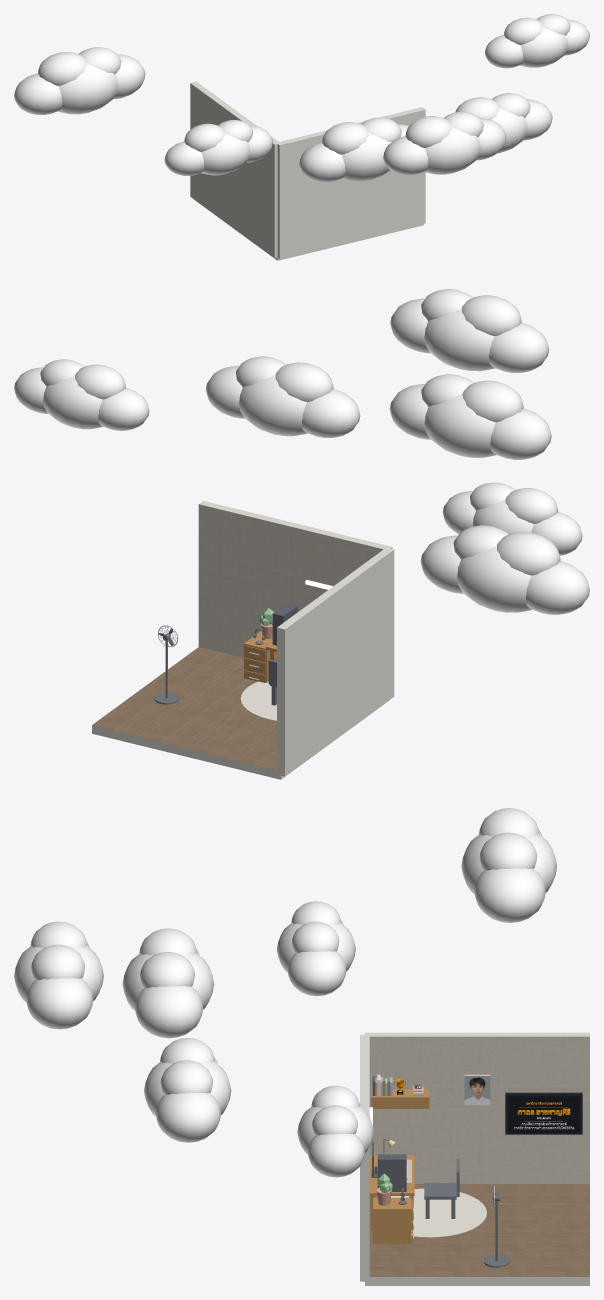
The model's file is myport.glb.
The picture shows the model from 3 angles, top to bottom: view 1: azimuth 30°, elevation 25°; view 2: azimuth 150°, elevation 25°; view 3: azimuth 270°, elevation 25°; orthographic projection. The views are drawn at different scales.
Parts seen in each view (by area): view 1: Room, Cloud_05, Cloud_06, Cloud_02, Cloud_01, Cloud_04, Cloud_03; view 2: Room, Cloud_05, Cloud_02, Cloud_06, Cloud_03, Cloud_04, Cloud_01, Cabinet, Room_Rug; view 3: Room, Cloud_05, Cloud_02, Cloud_06, Cloud_03, Cloud_01, Cloud_04, StudentInfo_3DText, Room_Rug, Cabinet, Shelf, Computer (+4 smaller).
Boxes of the visible parts, x1=… form: Room: x1=190, y1=81, x2=425, y2=260; Cloud_05: x1=14, y1=47, x2=145, y2=114; Cloud_06: x1=383, y1=111, x2=506, y2=175; Cloud_02: x1=299, y1=117, x2=408, y2=182; Cloud_01: x1=164, y1=120, x2=272, y2=175; Cloud_04: x1=485, y1=14, x2=589, y2=68; Cloud_03: x1=455, y1=93, x2=552, y2=153; Room: x1=92, y1=501, x2=394, y2=779; Cloud_05: x1=420, y1=525, x2=589, y2=614; Cloud_02: x1=389, y1=374, x2=551, y2=459; Cloud_06: x1=390, y1=289, x2=549, y2=372; Cloud_03: x1=205, y1=356, x2=360, y2=437; Cloud_04: x1=14, y1=359, x2=149, y2=430; Cloud_01: x1=442, y1=482, x2=582, y2=555; Cabinet: x1=244, y1=631, x2=276, y2=682; Room_Rug: x1=240, y1=681, x2=276, y2=721; Room: x1=360, y1=1032, x2=589, y2=1285; Cloud_05: x1=461, y1=808, x2=557, y2=922; Cloud_02: x1=122, y1=928, x2=213, y2=1038; Cloud_06: x1=14, y1=921, x2=103, y2=1029; Cloud_03: x1=144, y1=1038, x2=231, y2=1142; Cloud_01: x1=276, y1=901, x2=355, y2=996; Cloud_04: x1=297, y1=1085, x2=373, y2=1177; StudentInfo_3DText: x1=507, y1=1096, x2=580, y2=1132; Room_Rug: x1=391, y1=1188, x2=486, y2=1237; Cabinet: x1=373, y1=1197, x2=413, y2=1244; Shelf: x1=371, y1=1089, x2=429, y2=1108; Computer: x1=377, y1=1154, x2=406, y2=1191.
Bounding box in the file's own units: 12.1 × 4.96 × 8.95.
Materials: 48 (3 with a texture image).
